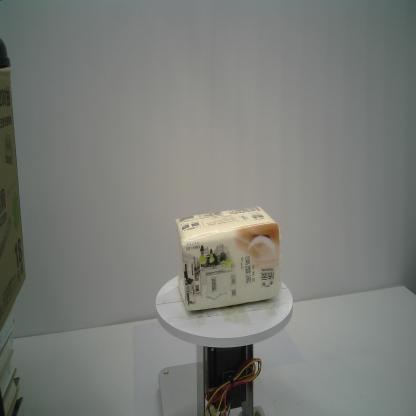Tissue: (175, 206, 281, 312)
